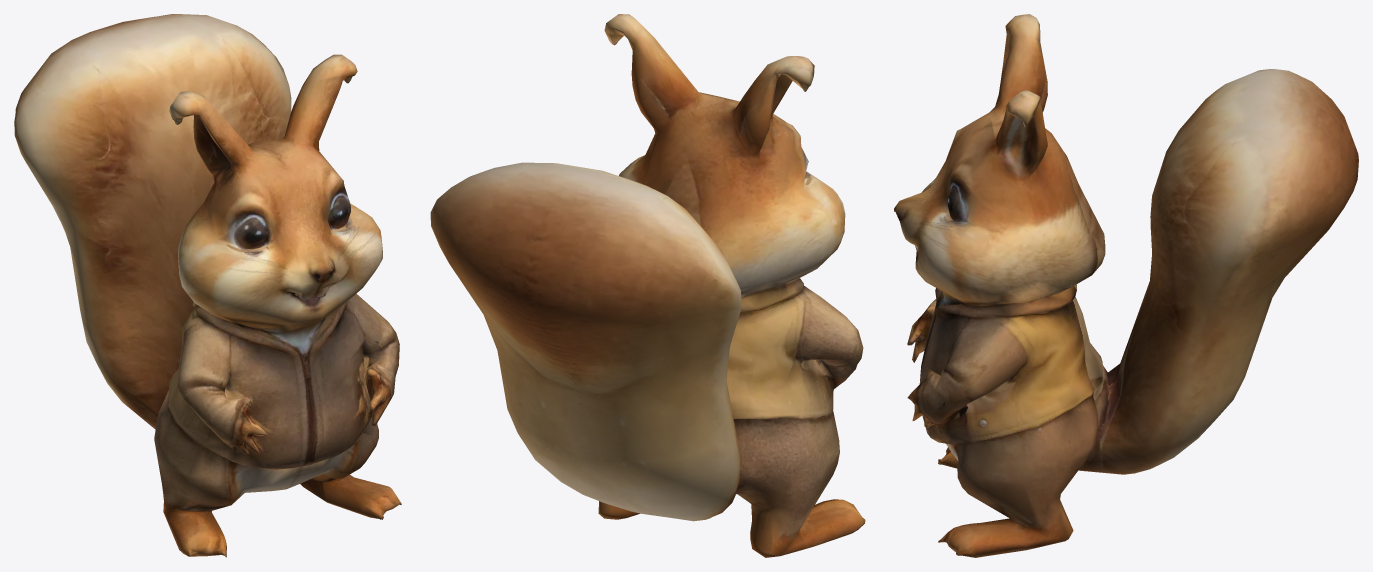
Rendered from squirrel_discover.glb.
3 renders of one model, left to right at view 1: azimuth 30°, elevation 25°; view 2: azimuth 150°, elevation 25°; view 3: azimuth 270°, elevation 25°, orthographic. The views are drawn at different scales.
Size of the model in its own units: 1.27 by 1.99 by 1.86.
1 material, 1 textured.
